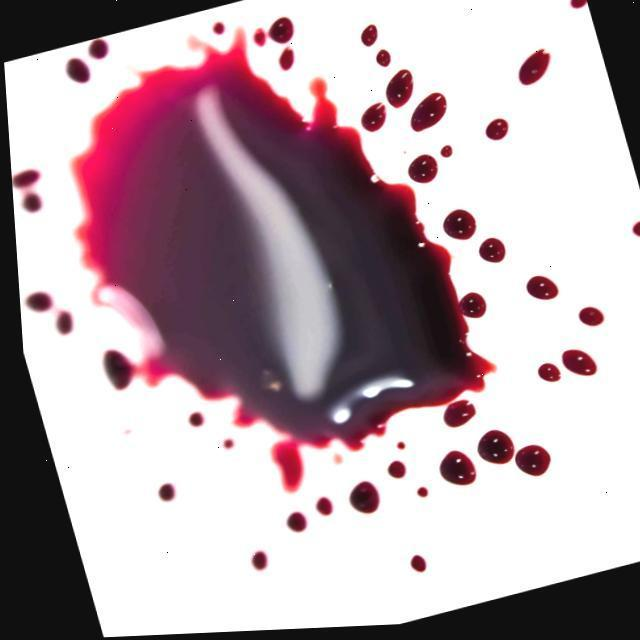knife: (76, 45, 484, 445), (478, 430, 552, 477), (305, 73, 342, 126), (409, 91, 450, 134), (99, 349, 137, 394), (272, 441, 303, 493), (440, 451, 477, 486), (560, 347, 599, 377), (253, 18, 294, 46), (385, 70, 413, 107), (443, 209, 476, 240), (408, 152, 438, 185), (350, 482, 380, 514), (519, 52, 549, 82), (525, 275, 559, 300), (445, 400, 475, 427), (459, 292, 488, 319), (577, 305, 606, 328), (11, 168, 42, 189), (479, 238, 505, 263), (65, 58, 90, 84), (363, 103, 385, 132), (25, 290, 54, 312), (20, 192, 42, 214), (485, 118, 508, 139), (359, 24, 378, 49), (56, 311, 74, 335), (285, 512, 306, 532), (538, 364, 561, 382), (89, 39, 109, 59), (156, 481, 175, 502), (251, 552, 268, 572), (314, 498, 332, 516), (375, 48, 391, 68), (279, 48, 294, 69), (388, 462, 405, 478), (411, 555, 426, 573), (188, 412, 204, 428), (569, 0, 586, 11), (629, 221, 640, 237), (439, 145, 452, 157), (212, 22, 225, 34), (417, 487, 428, 498), (222, 439, 233, 448), (397, 441, 405, 449)
